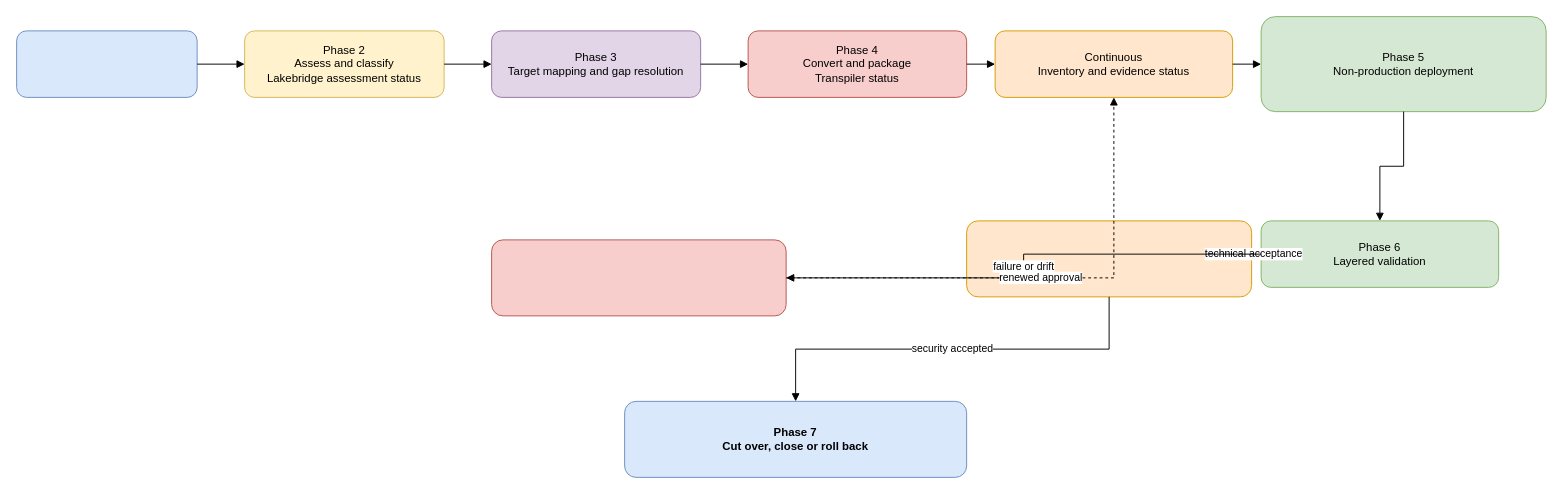
This 1563x494 diagram has some shape labels left out. The shapes that lost their labels are listed below. From the top down, each one's centre as x and y in pixels, then its label:
At [106,63]: "Phase 1 Discover, inventory and route".
At [638,277]: "Stop, preserve evidence, remediate smallest scope".
At [1109,258]: "Phase 6 Reconcile inventory to target evidence".
